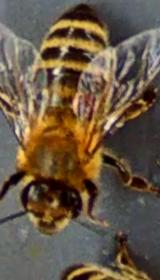varroa_mite: (66, 82, 108, 126)
